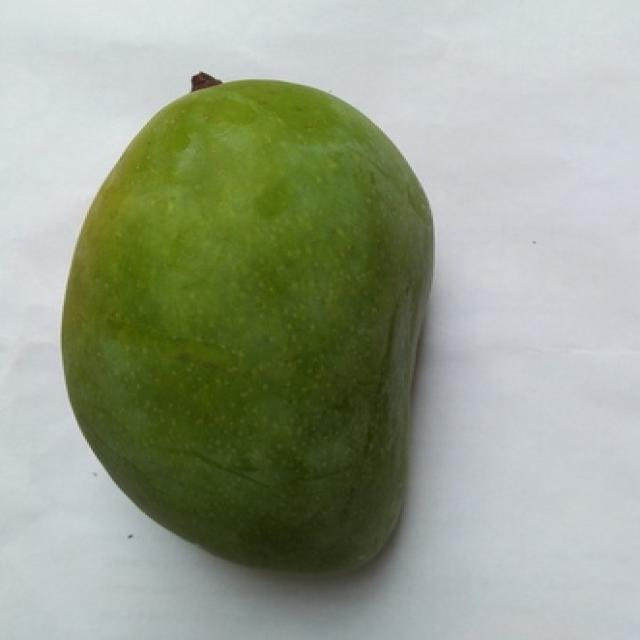Mango: (62, 80, 433, 570)
